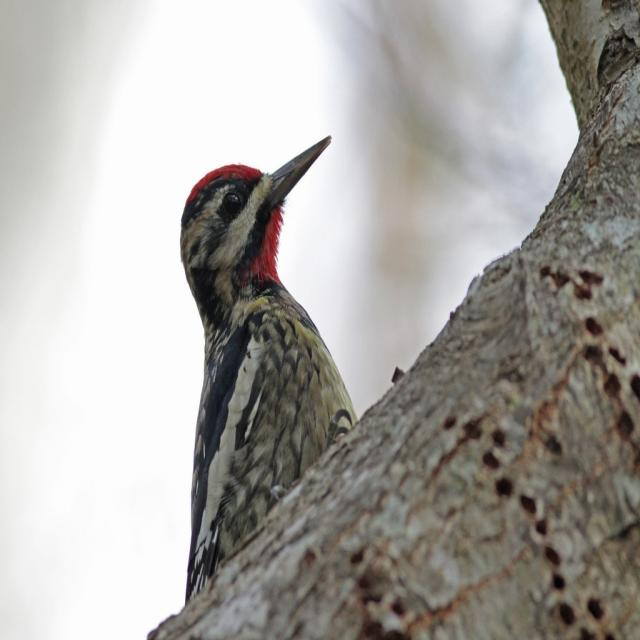bird: (173, 132, 357, 598)
